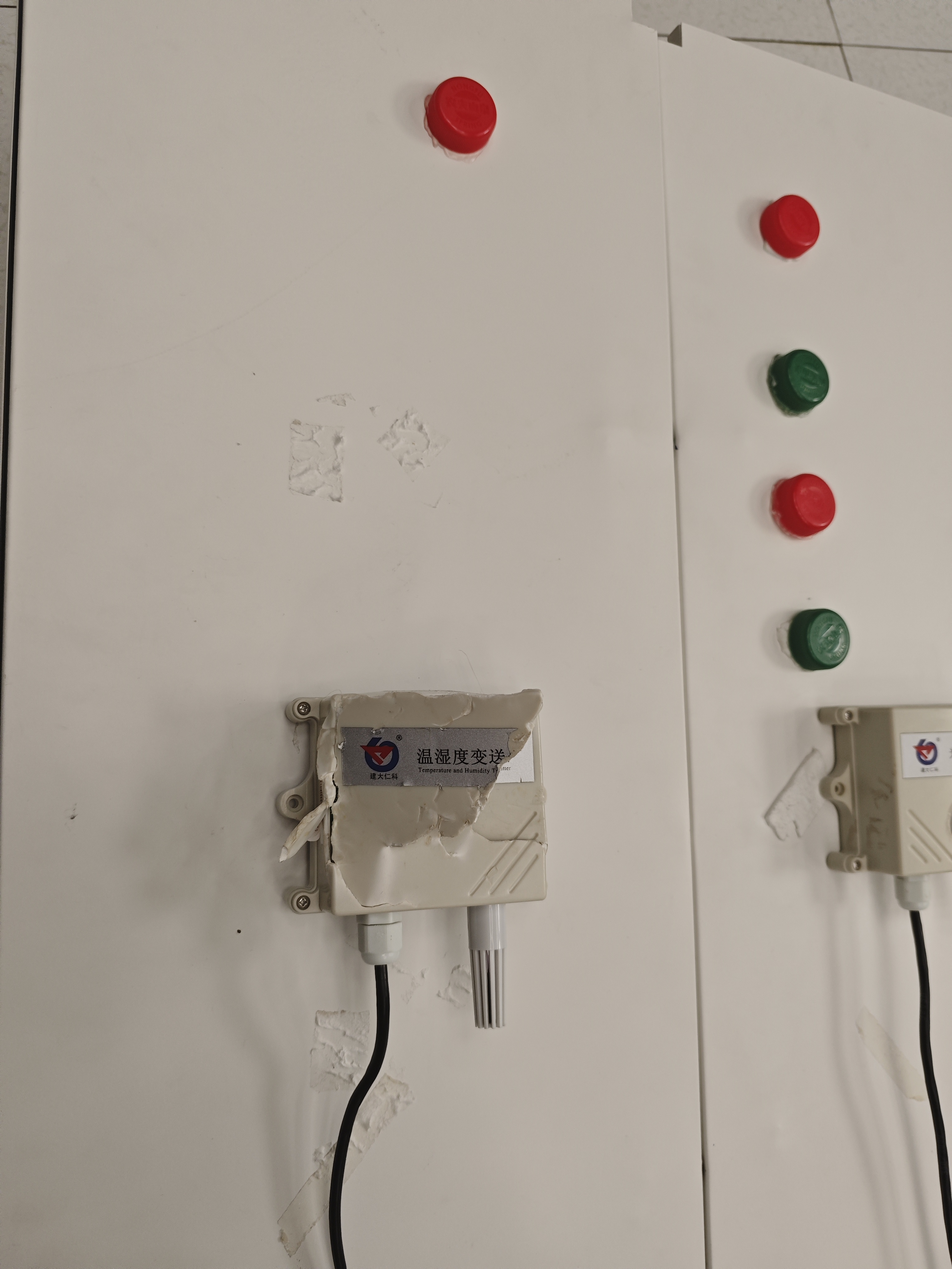red_warning: (402, 58, 567, 182), (753, 447, 879, 560), (756, 163, 846, 266)
sensor_damage: (226, 633, 619, 1058)
